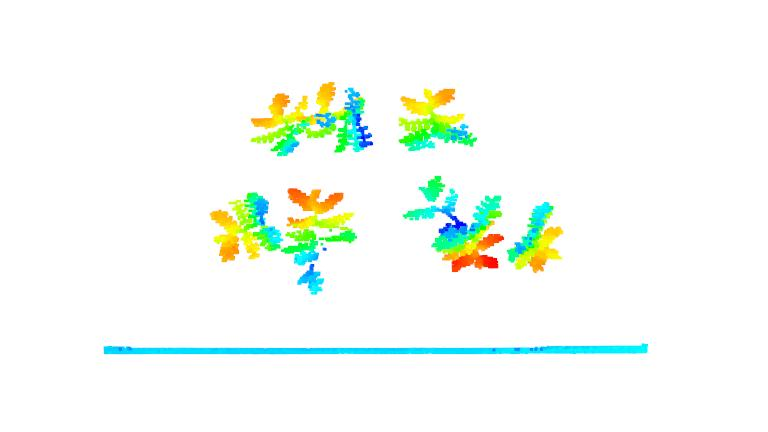chickpea: (400, 176, 504, 273), (284, 183, 359, 298), (206, 189, 284, 264), (396, 85, 476, 151), (309, 82, 381, 154), (253, 79, 312, 157), (505, 198, 564, 275)
